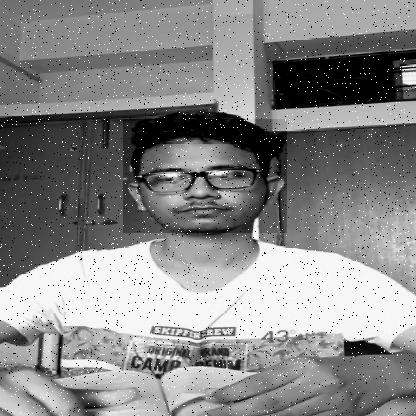Normal: (123, 119, 287, 233)
